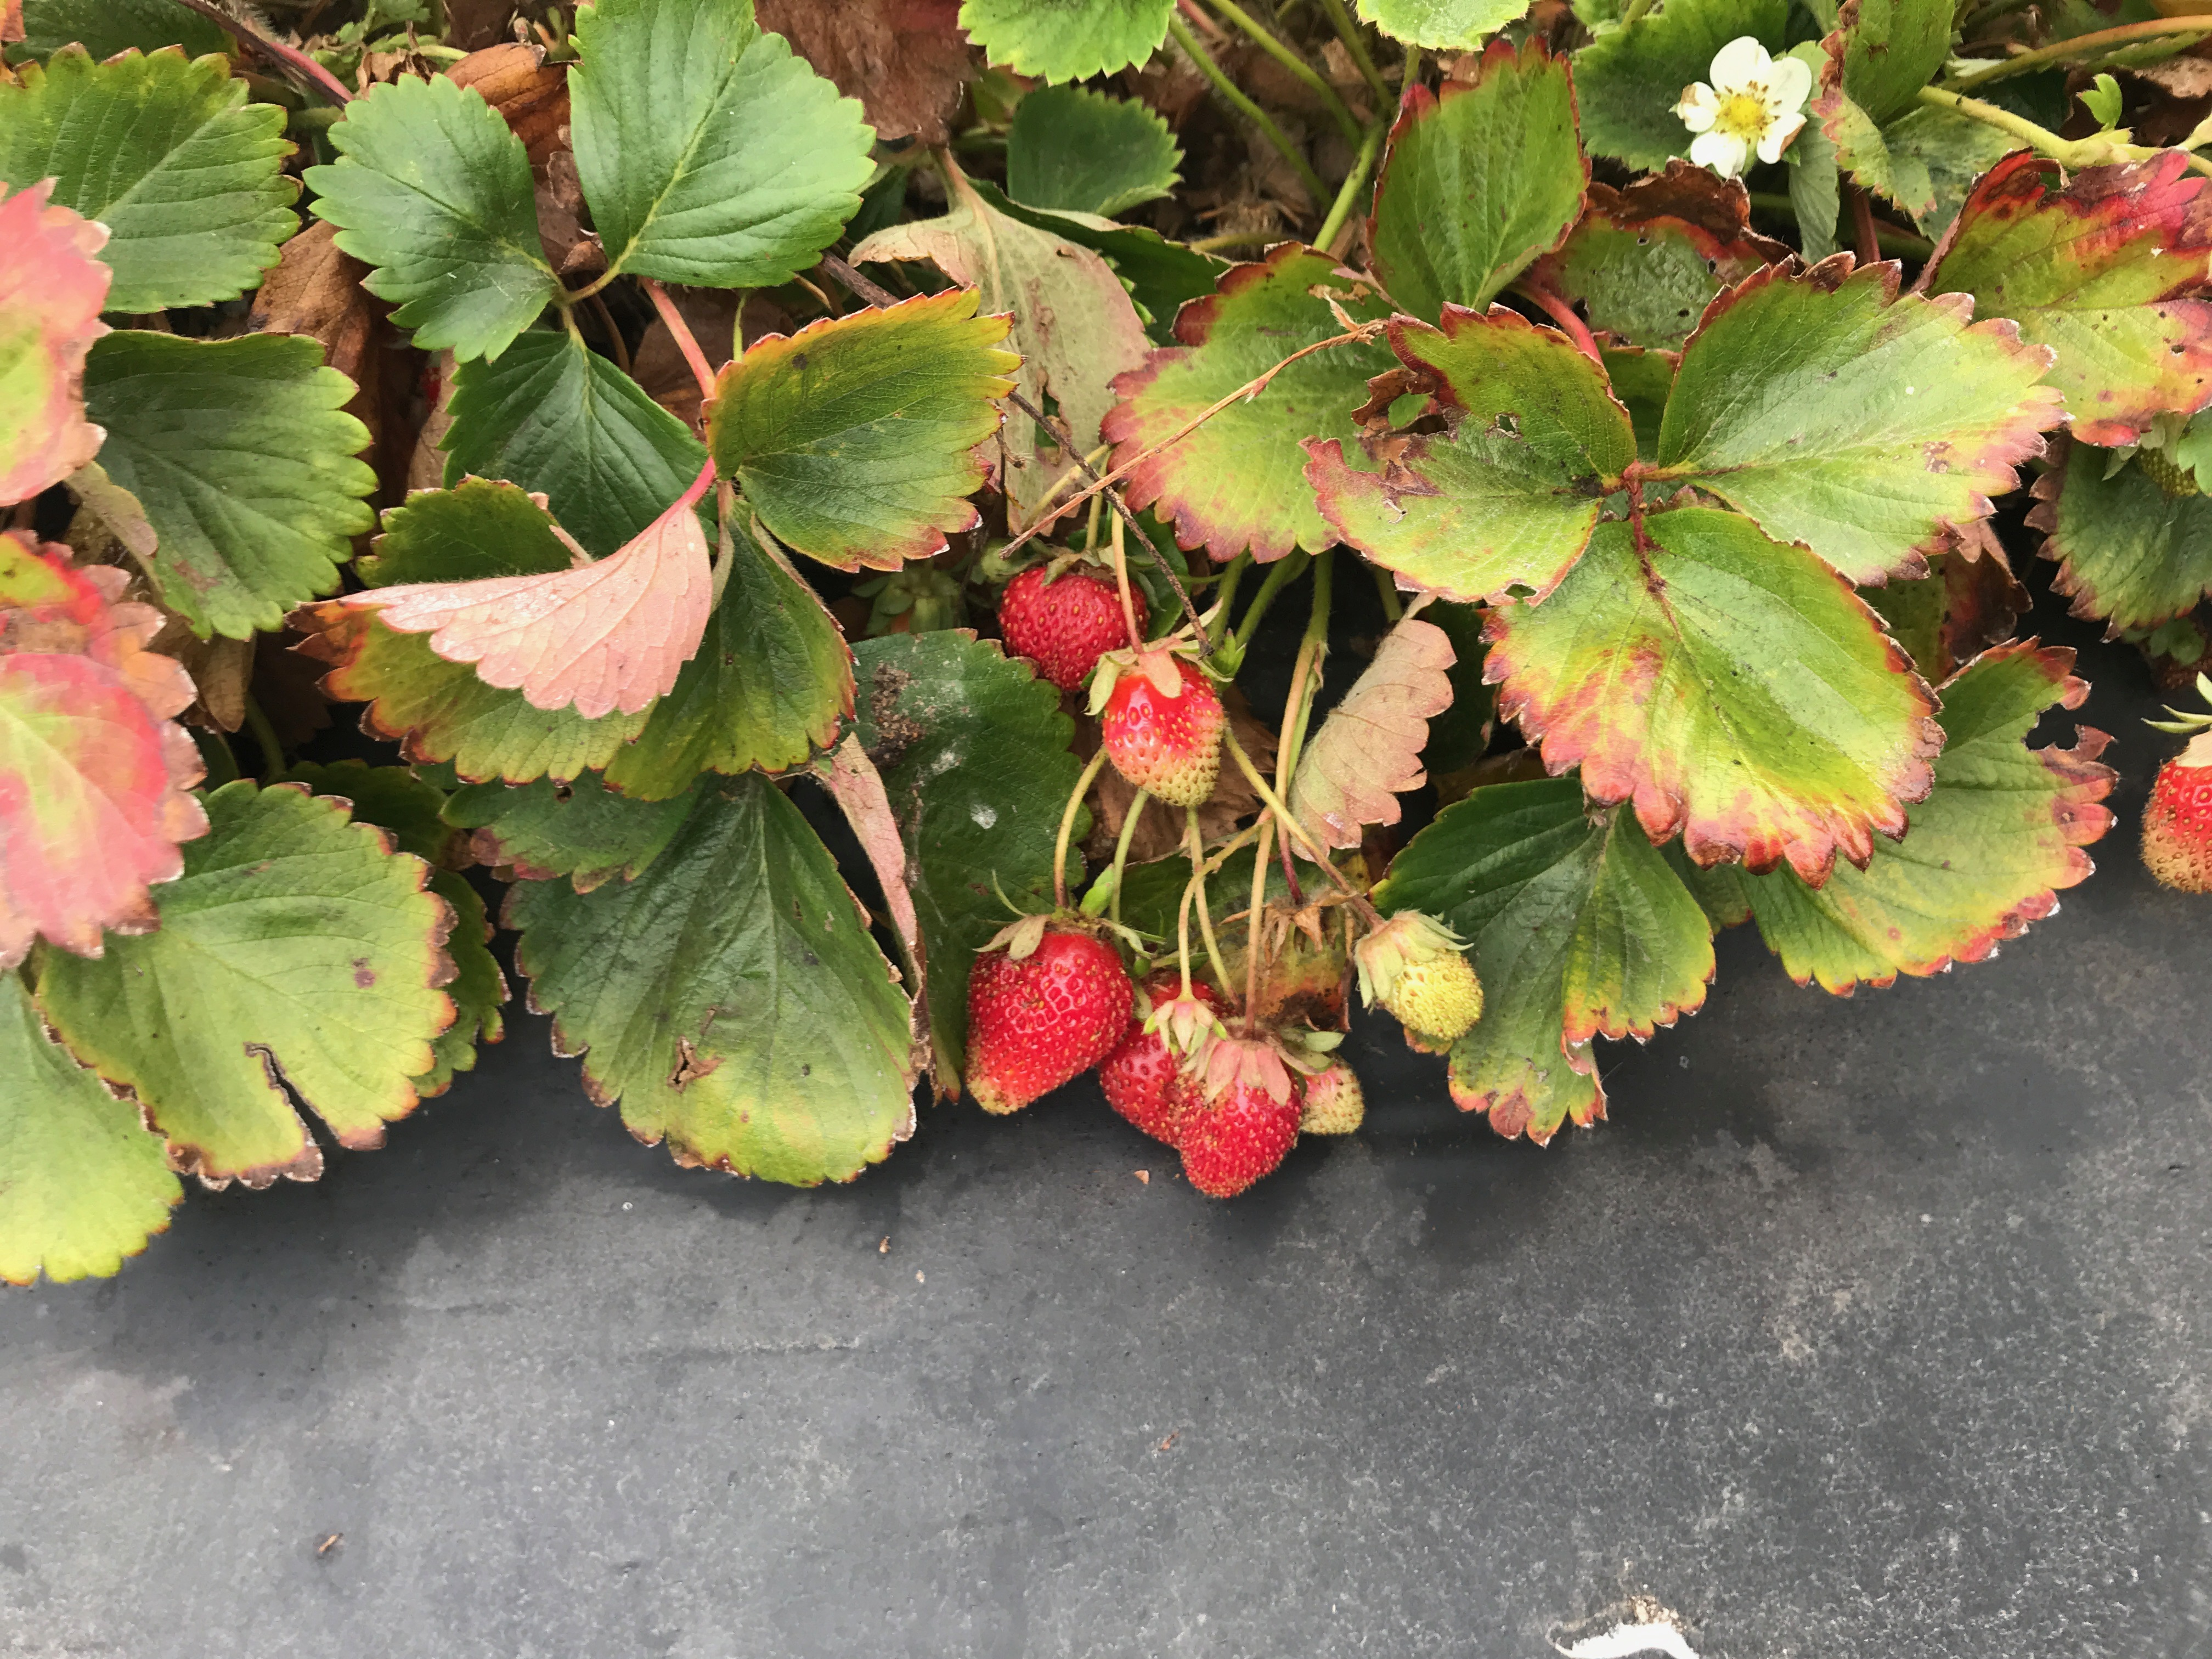ripe_strawberry: (956, 908, 1143, 1121), (1094, 971, 1231, 1161), (996, 551, 1153, 706), (1170, 1030, 1305, 1202)
unripe_strawberry: (1099, 647, 1228, 814), (1357, 908, 1489, 1044), (2137, 735, 2212, 896), (1298, 1056, 1369, 1136)
